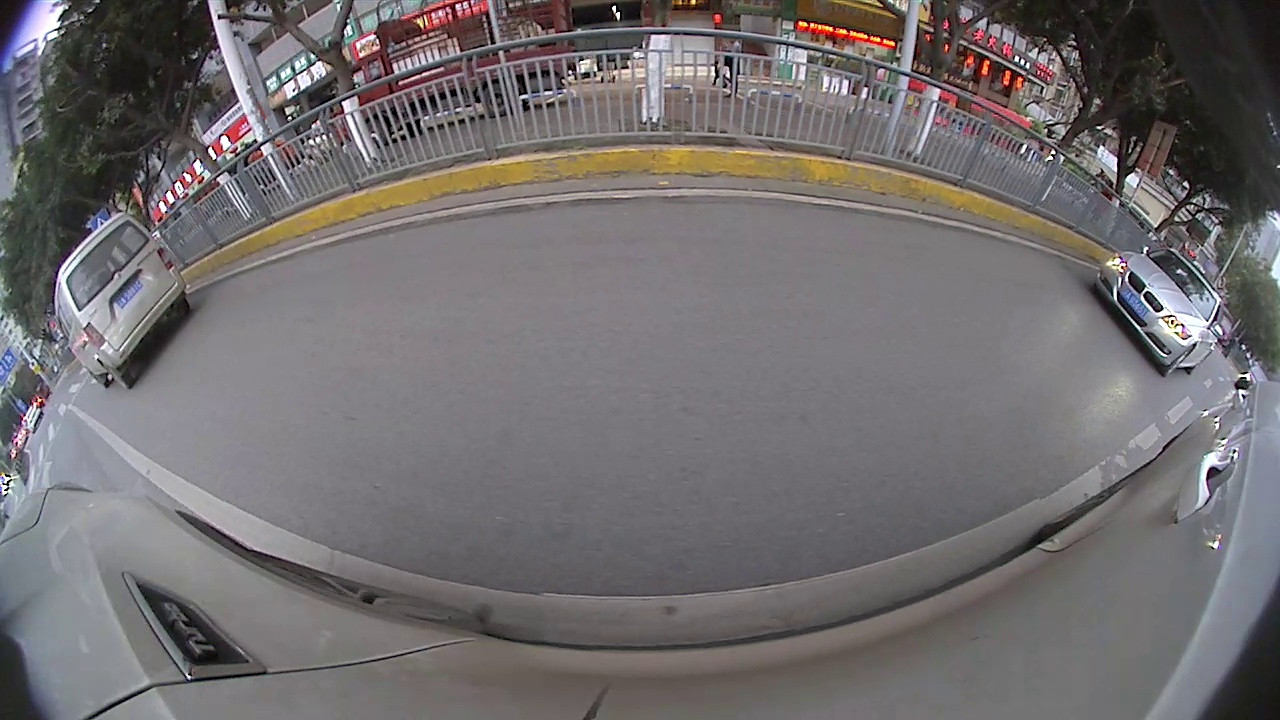car: (50, 208, 195, 394), (1087, 240, 1232, 383)
truck: (335, 39, 575, 152)
